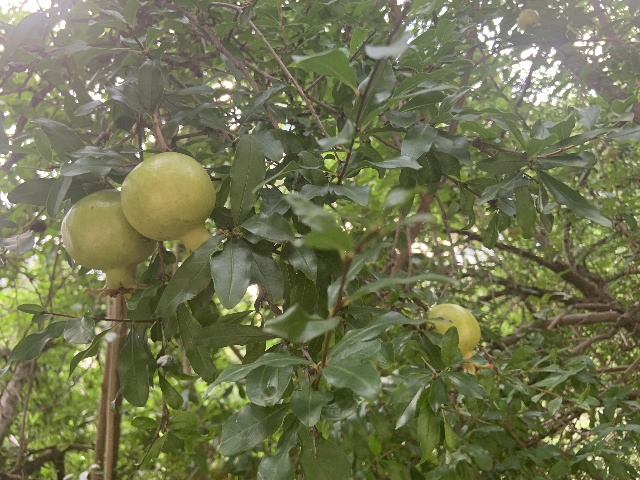mid-growth: (63, 188, 157, 301), (120, 151, 218, 253), (424, 303, 492, 376), (516, 9, 541, 29), (602, 146, 619, 163)
